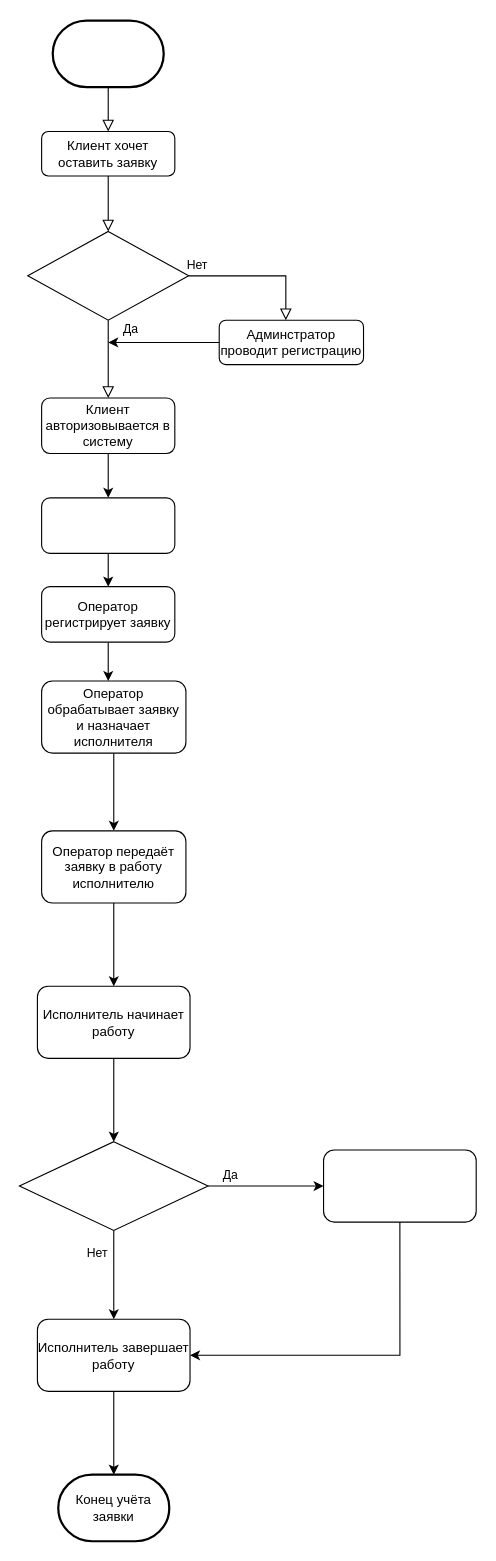
This 496x1561 diagram has some shape labels left out. Here are the shapes that lost their labels. From the top down, the centre of each, then its label:
(x=107, y=53): Начало учёта заявки
(x=108, y=275): Клиент зарегистрирован?
(x=108, y=525): Клиент создаёт новую заявку, описывает проблему
(x=113, y=1185): Требуются доп. запчасти?
(x=399, y=1185): Дозаказ необходимых запчастей
